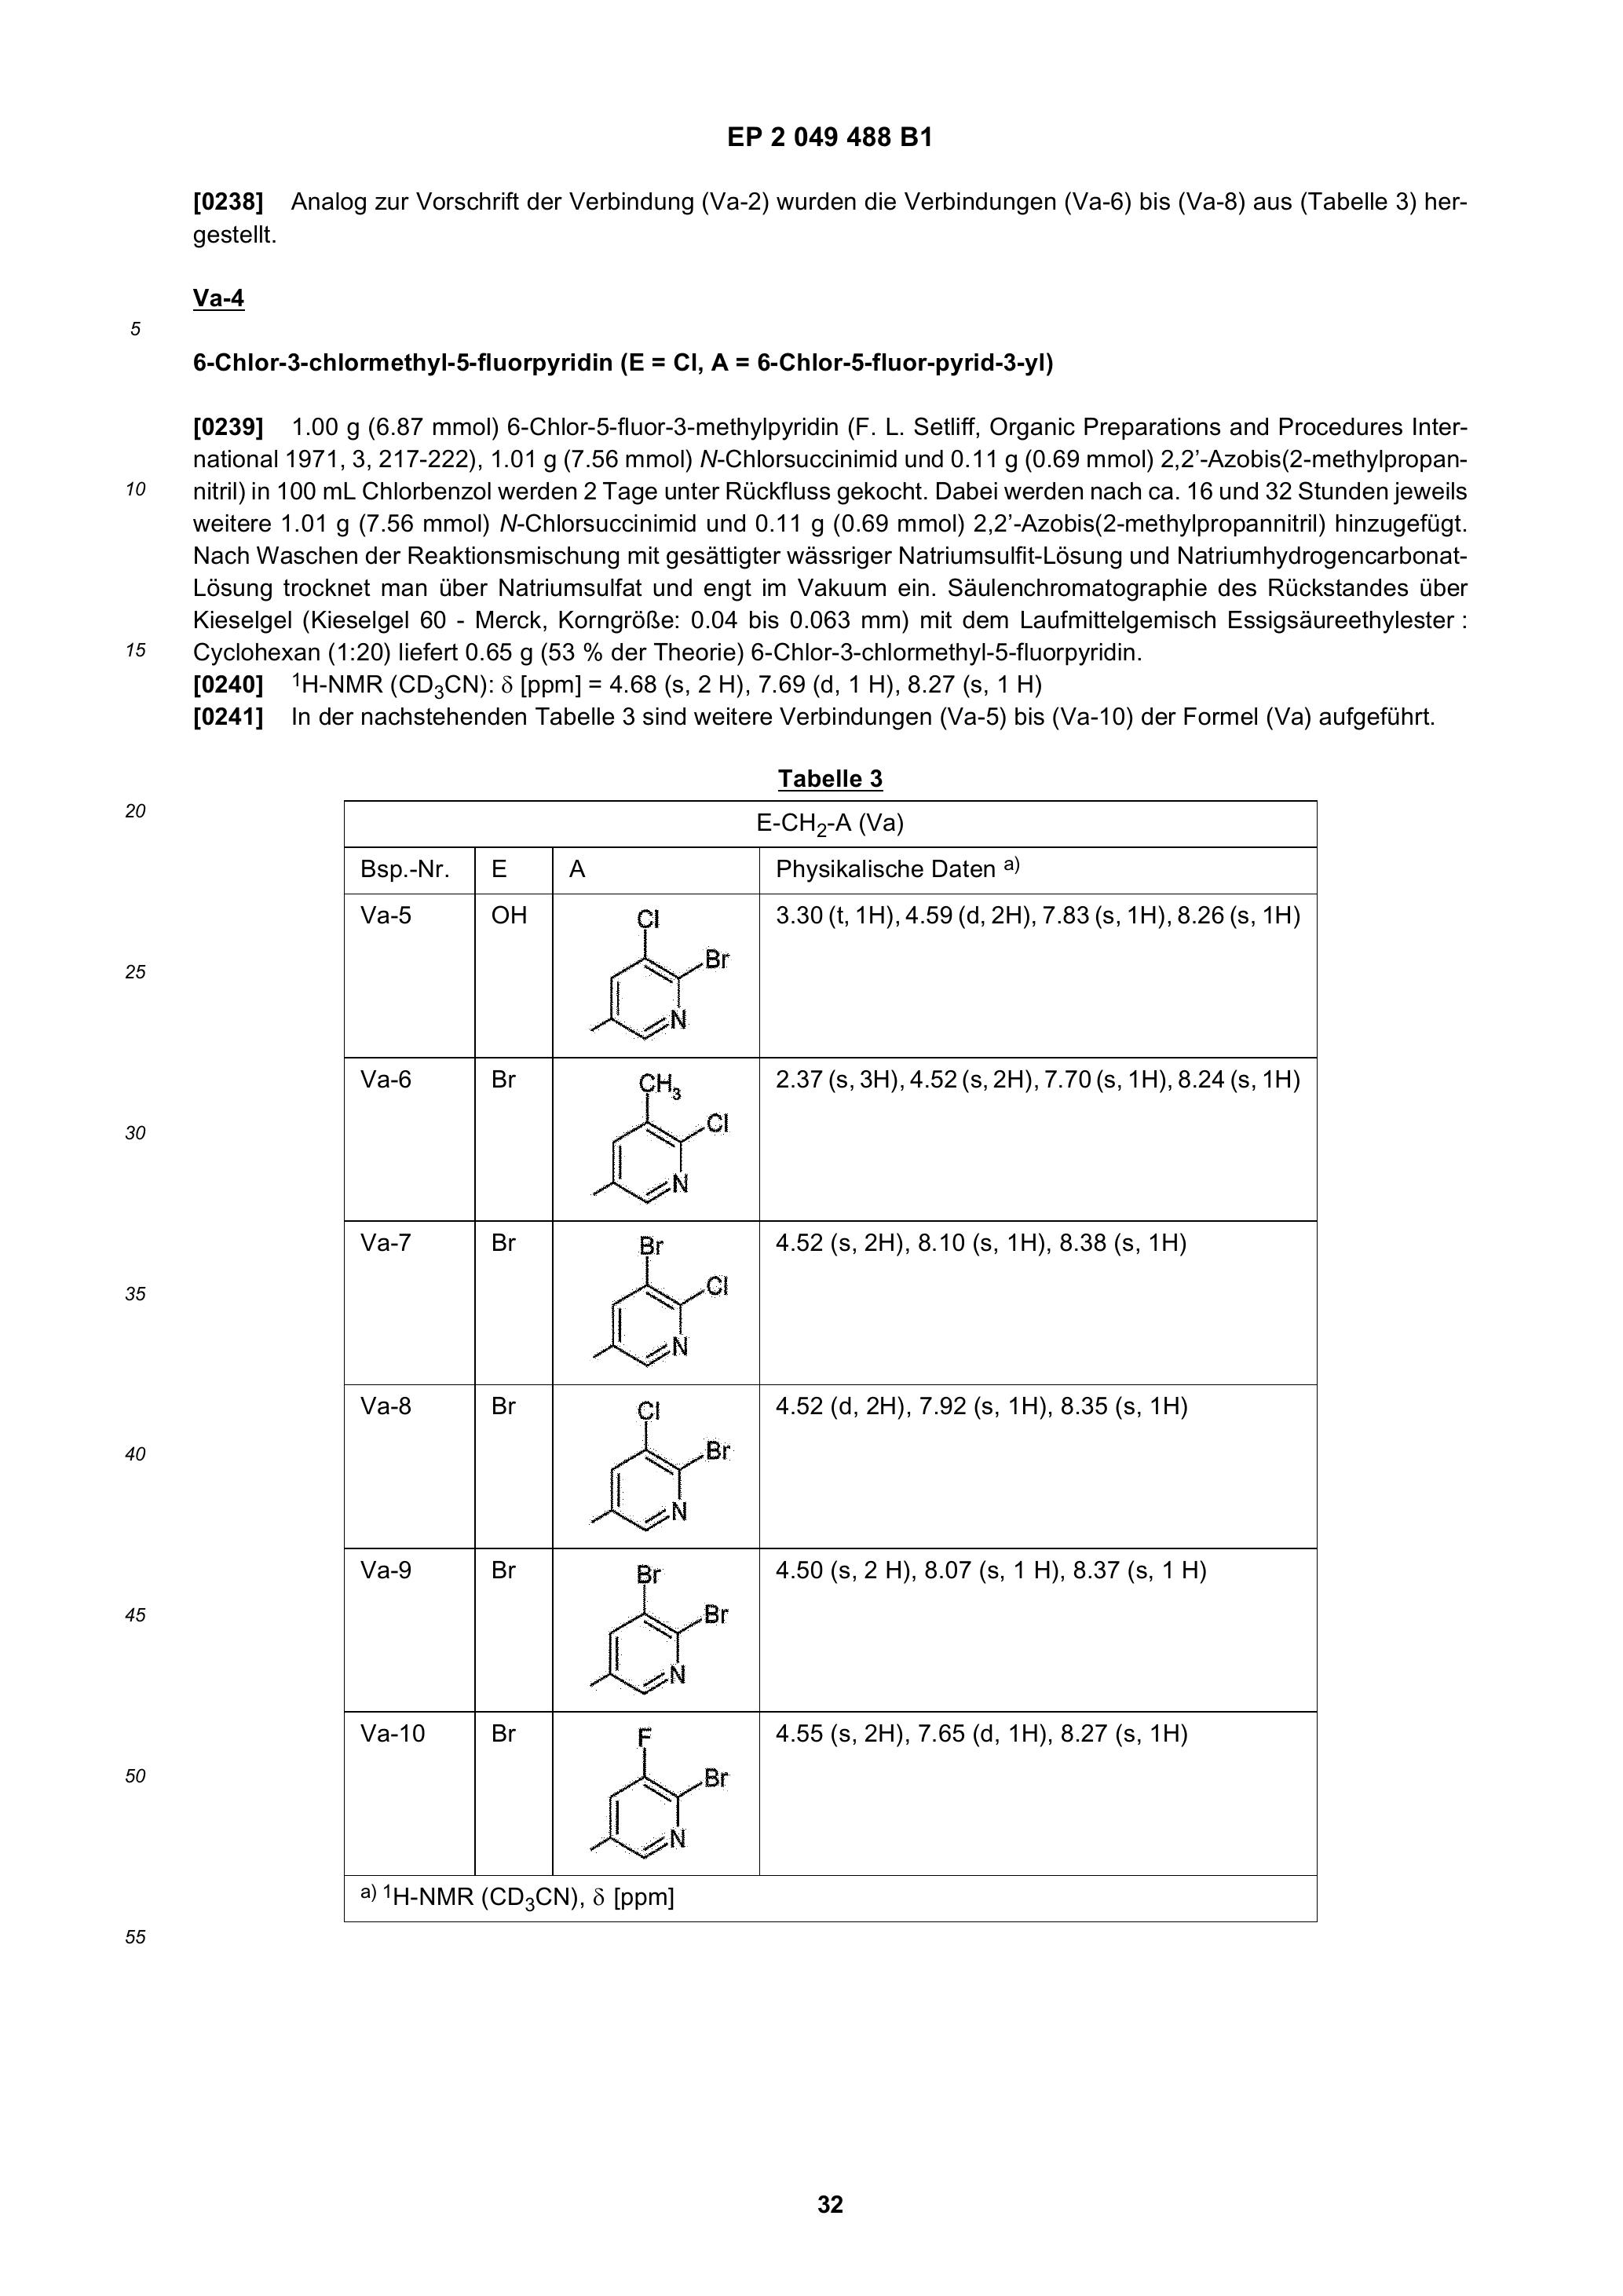substitutes: (555, 1223, 743, 1393), (567, 1553, 736, 1715), (567, 1393, 741, 1546), (578, 1070, 734, 1238), (585, 1725, 736, 1874), (580, 903, 734, 1047)
